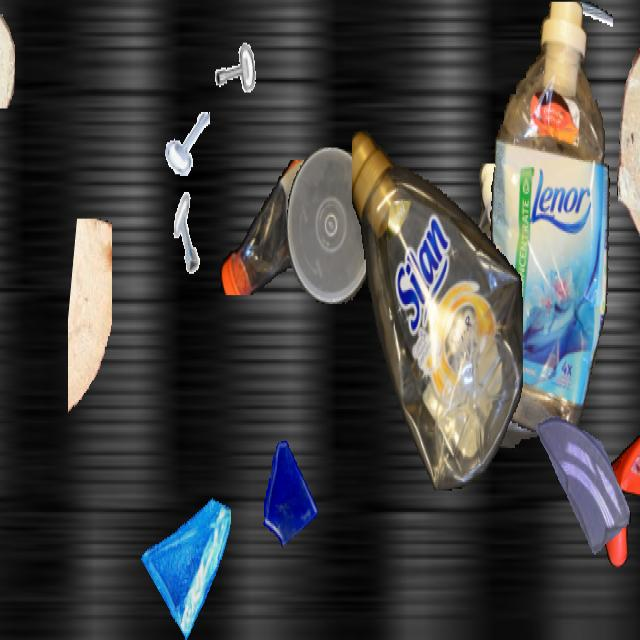glass: (536, 402, 630, 569), (140, 478, 230, 638), (258, 436, 320, 546)
metal: (550, 2, 612, 112), (203, 4, 259, 103), (166, 192, 212, 274), (165, 105, 209, 183)
plastic: (352, 117, 522, 491), (472, 2, 612, 446), (465, 164, 599, 448), (218, 160, 364, 295), (287, 148, 375, 304), (593, 425, 640, 567)
wood: (68, 219, 112, 425), (616, 7, 640, 270), (0, 3, 15, 106)
